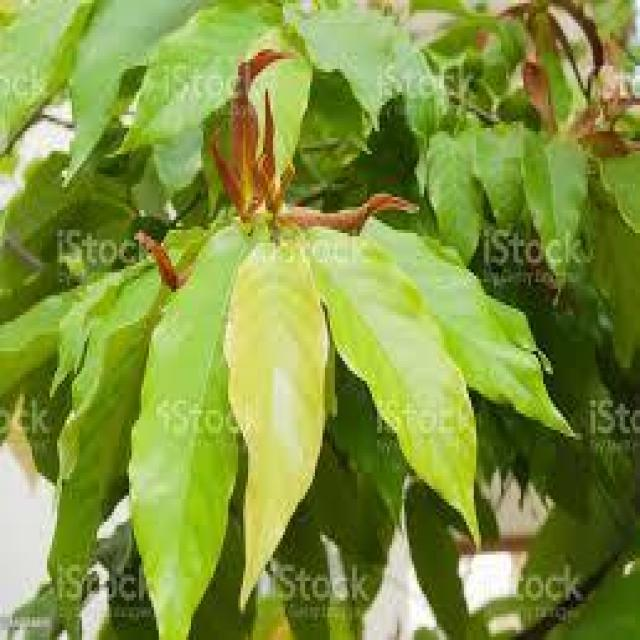organic waste: (116, 190, 574, 591)
